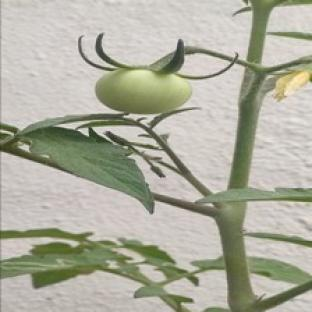Tomato: (95, 69, 192, 114)
